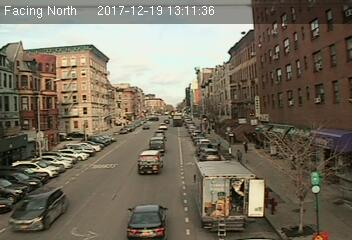car: (9, 187, 70, 232), (125, 204, 168, 240), (148, 137, 167, 151), (198, 148, 219, 160)
truck: (194, 161, 264, 231), (138, 150, 165, 174)
